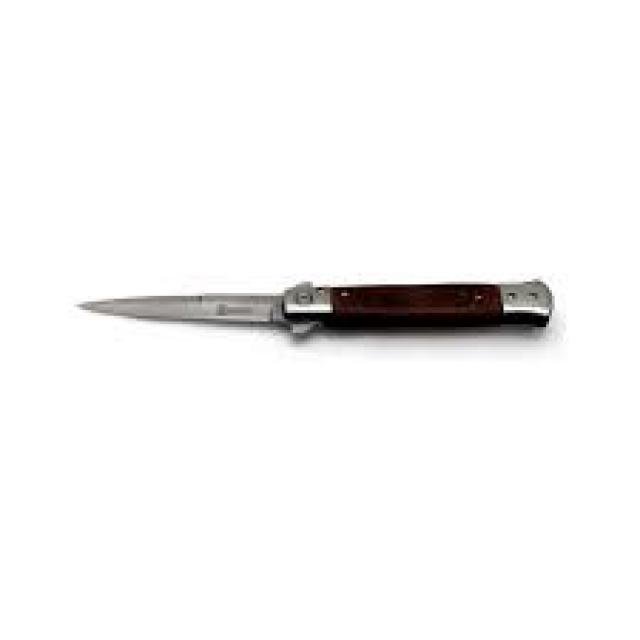knives: (69, 273, 558, 344)
